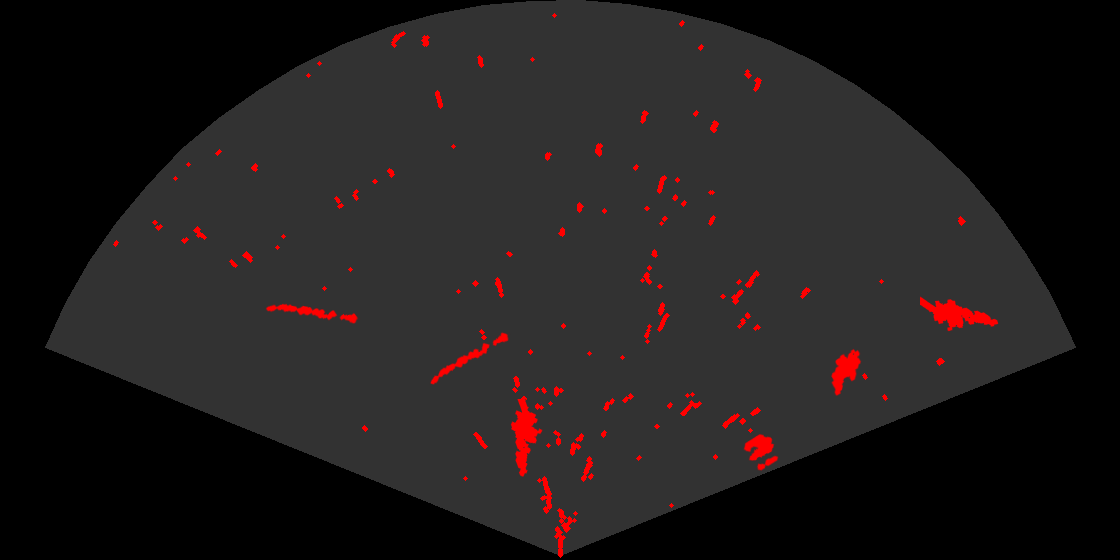AUV: (830, 347, 863, 397)
ball: (742, 432, 780, 472)
chain: (429, 331, 511, 386), (264, 302, 361, 325)
frogman: (920, 295, 1000, 333), (509, 399, 544, 478)
